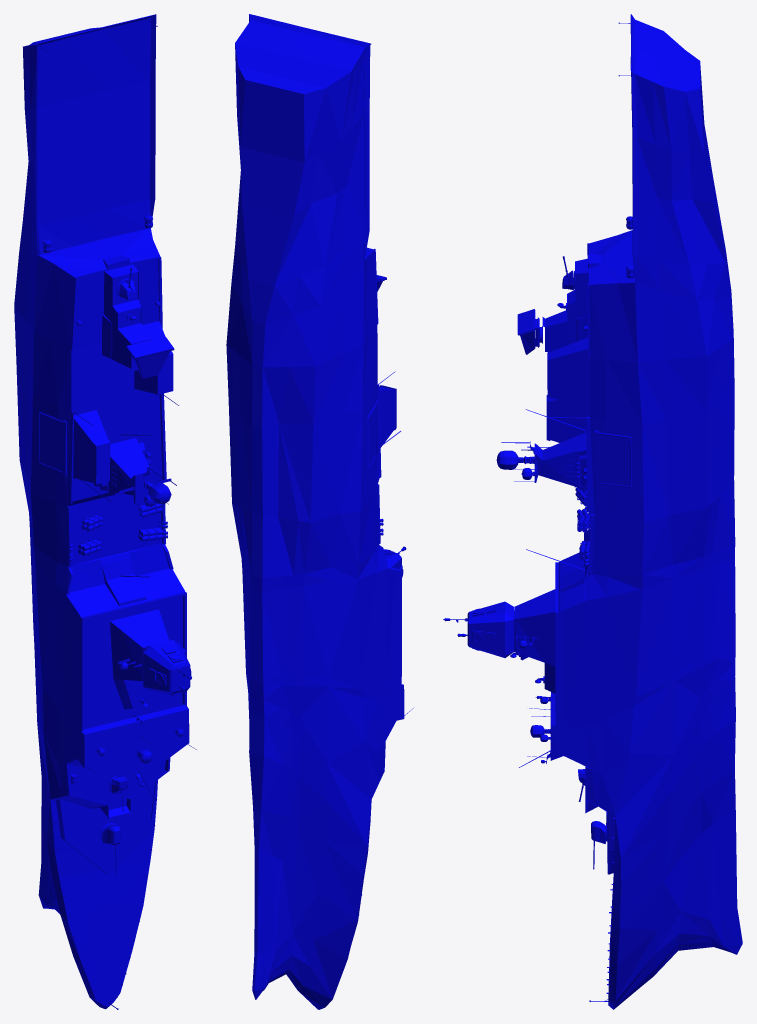
File: admiral.obj
The picture shows the model from 3 angles, left to right: view 1: azimuth 30°, elevation 25°; view 2: azimuth 150°, elevation 25°; view 3: azimuth 270°, elevation 25°; orthographic projection. The views are drawn at different scales.
Parts seen in each view (by area): view 1: Mesh07, Mesh06; view 2: Mesh07; view 3: Mesh07, Mesh06.
Boxes of the visible parts, bbox=[...] form: Mesh07: bbox=[14, 14, 196, 1009]; Mesh06: bbox=[126, 336, 174, 378]; Mesh07: bbox=[226, 14, 413, 1009]; Mesh07: bbox=[443, 14, 742, 1009]; Mesh06: bbox=[517, 309, 539, 354].
Bounding box in the file's own units: 30.54 × 238 × 66.77.
